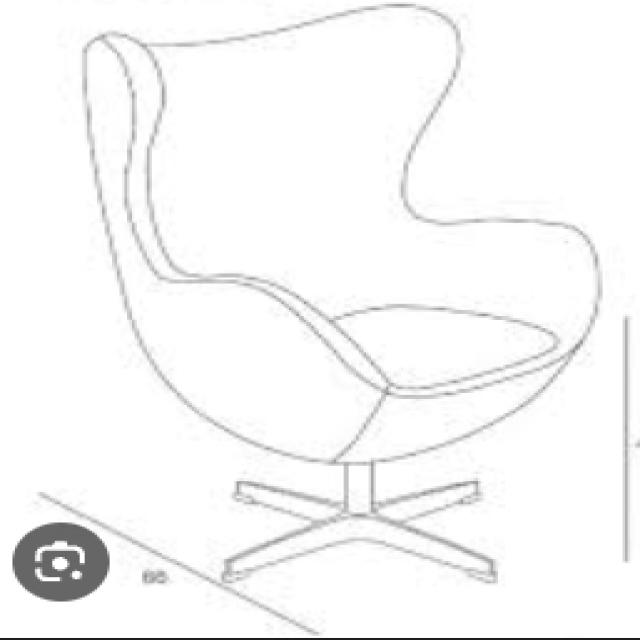Leg_Structure: (213, 473, 516, 595)
egg_armrest: (75, 0, 609, 472)
